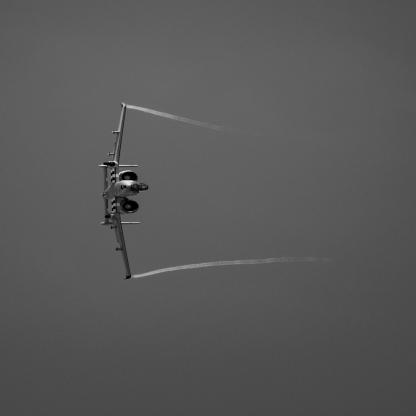A10: (99, 103, 150, 281)
